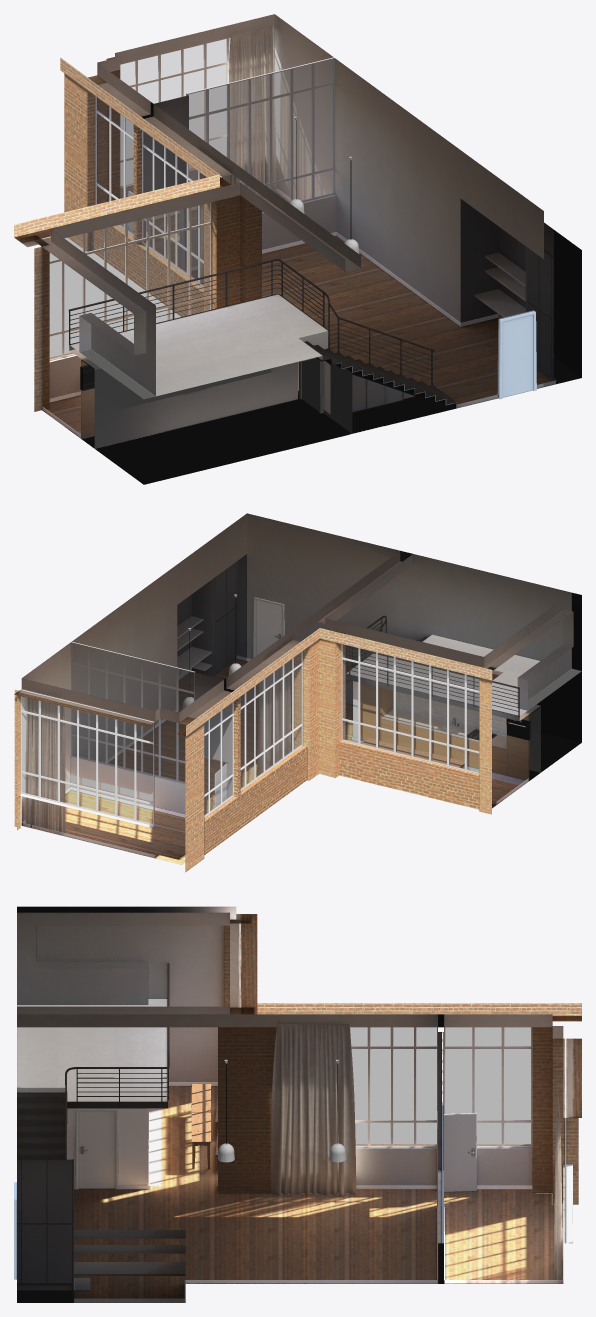
3 views of the same model, one above another, from view 1: azimuth 30°, elevation 25°; view 2: azimuth 150°, elevation 25°; view 3: azimuth 270°, elevation 25° (orthographic). The views are drawn at different scales.
Visible parts, largest first — view 1: Wall, Floor, Pillar2, Pillar, Glass5, Glass1, Bathroom, Stairs, Curtain, Cube.012, Glass2, Glass4 (+10 smaller); view 2: Wall, Floor, Pillar2, Pillar, Glass1, Glass4, Glass5, Cube.009, Curtain, Glass2, Wardrobe, Window4 (+11 smaller); view 3: Floor, Pillar2, Wall, Curtain, Pillar, Glass2, Glass3, Wardrobe, Cube.012, Stairs, Table3, Baseboard (+5 smaller).
Boxes of the visible parts, x1,y1,x2,y2 form: Wall: (49,14,581,398); Floor: (42,192,581,484); Pillar2: (14,14,360,395); Pillar: (34,70,261,411); Glass5: (188,59,332,202); Glass1: (50,203,209,359); Bathroom: (70,331,352,448); Stairs: (68,259,456,412); Curtain: (197,25,276,284); Cube.012: (128,191,536,413); Glass2: (143,131,206,285); Glass4: (120,38,229,103); Wall: (19,513,581,854); Floor: (40,634,581,864); Pillar2: (14,551,573,736); Pillar: (14,629,491,872); Glass1: (342,644,478,772); Glass4: (22,697,152,823); Glass5: (72,643,193,782); Cube.009: (360,683,540,779); Curtain: (25,659,291,832); Glass2: (241,652,301,788); Wardrobe: (191,560,238,675); Window4: (20,689,154,825); Floor: (17,999,563,1302); Pillar2: (17,912,581,1117); Wall: (17,906,572,1243); Curtain: (270,1024,562,1279); Pillar: (218,925,578,1204); Glass2: (350,1027,436,1145); Glass3: (445,1027,530,1145); Wardrobe: (17,1159,73,1290); Cube.012: (14,1109,476,1279); Stairs: (17,963,169,1159); Table3: (74,1230,185,1291); Baseboard: (17,1082,563,1302).
Size of the model in its own units: 12.94 by 4.87 by 13.94.
28 materials, 21 textured.
